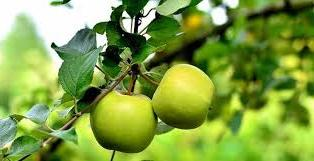apple: (151, 62, 217, 132), (87, 89, 154, 154)
